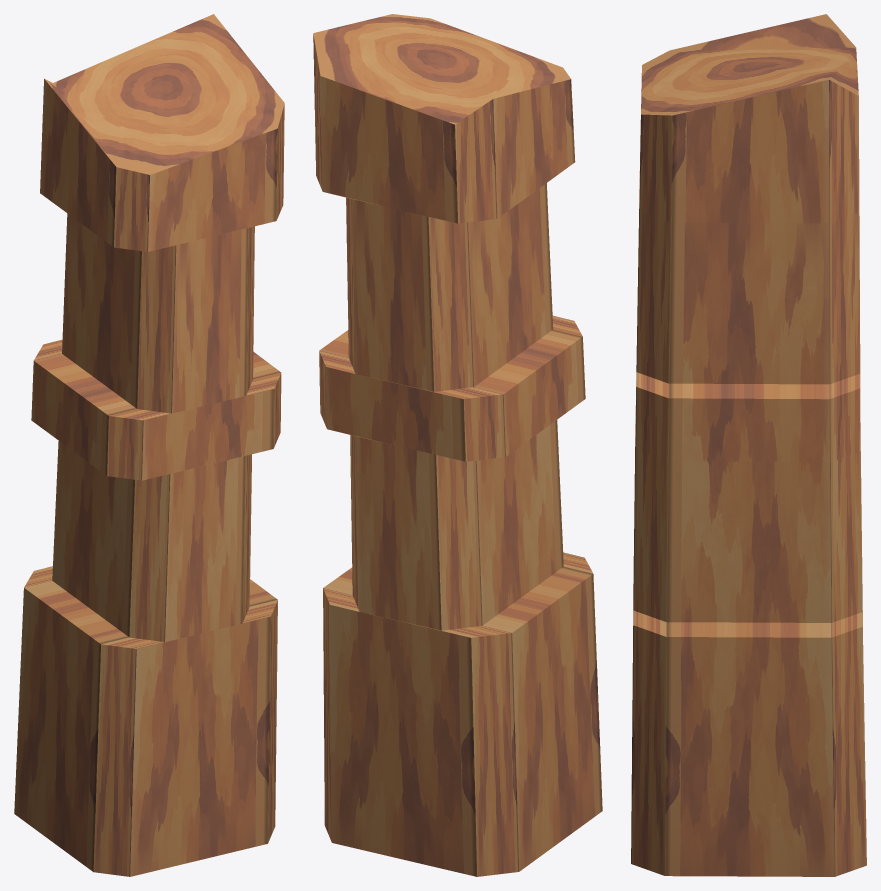
Rendered from fence_w_post_b.glb.
3 renders of one model, left to right at view 1: azimuth 30°, elevation 25°; view 2: azimuth 150°, elevation 25°; view 3: azimuth 270°, elevation 25°, orthographic. The views are drawn at different scales.
Visible parts, largest first — view 1: fence_w_post_b; view 2: fence_w_post_b; view 3: fence_w_post_b.
Part boxes in pixels (x1=…): fence_w_post_b: x1=14, y1=14, x2=284, y2=876; fence_w_post_b: x1=313, y1=14, x2=602, y2=876; fence_w_post_b: x1=631, y1=14, x2=866, y2=876.
Size of the model in its own units: 0.3502 by 1.27 by 0.3373.
1 material, 1 textured.
